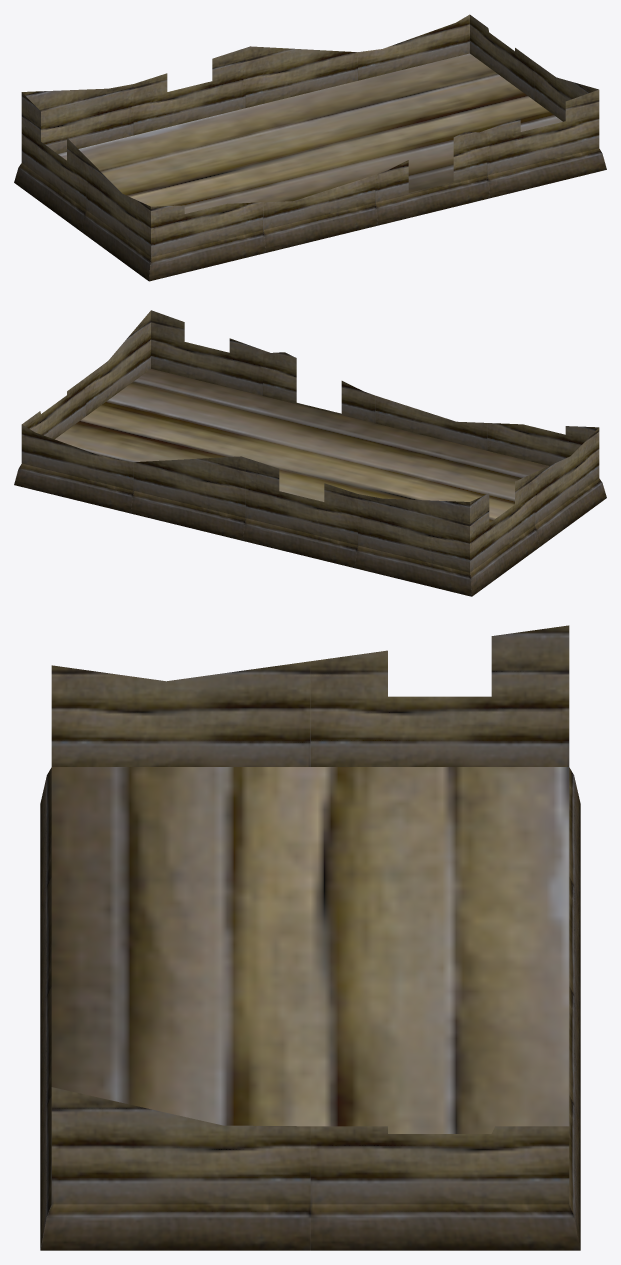
Rendered from s44_b_house_3_2_destroyed_2.dae.
The picture shows the model from 3 angles, top to bottom: view 1: azimuth 30°, elevation 25°; view 2: azimuth 150°, elevation 25°; view 3: azimuth 270°, elevation 25°; orthographic projection. The views are drawn at different scales.
Parts seen in each view (by area): view 1: Untitled; view 2: Untitled; view 3: Untitled.
Boxes of the visible parts, box(x1,y1,x2,y2) form: Untitled: box(14, 14, 606, 281); Untitled: box(14, 310, 606, 596); Untitled: box(40, 625, 580, 1250).
Size of the model in its own units: 98.11 by 50.11 by 18.73.
1 material, 1 textured.
